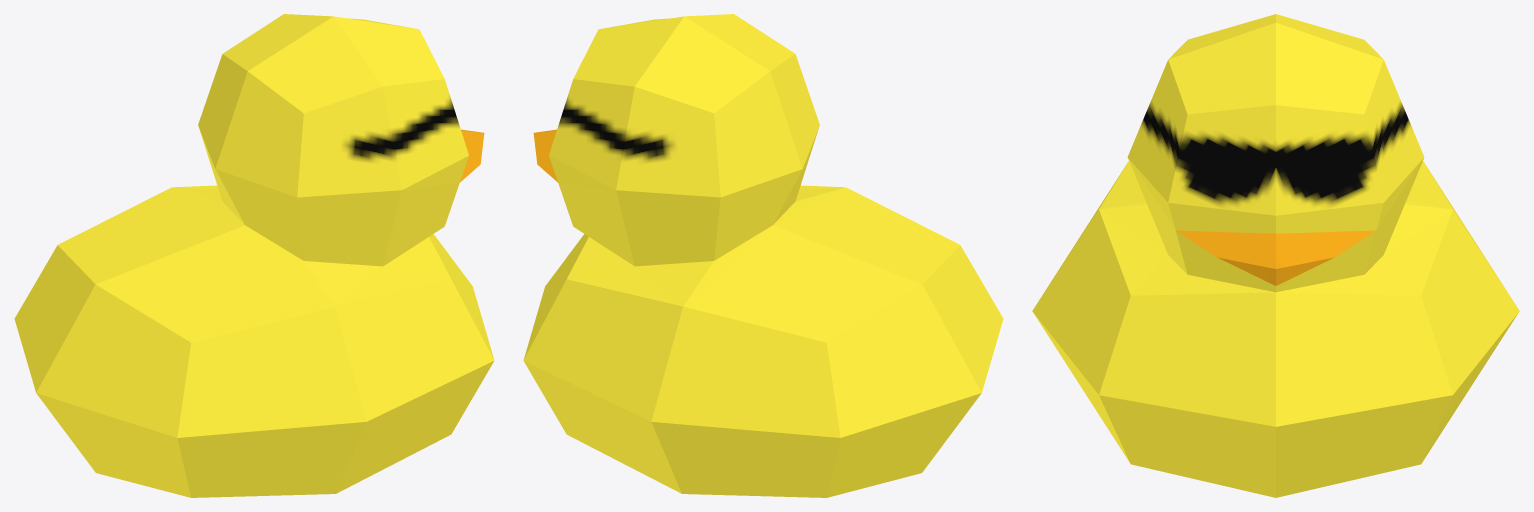
The model's file is Duck-col(1).glb.
3 renders of one model, left to right at view 1: azimuth 30°, elevation 25°; view 2: azimuth 150°, elevation 25°; view 3: azimuth 270°, elevation 25°, orthographic. The views are drawn at different scales.
Visible parts, largest first — view 1: Duck-col; view 2: Duck-col; view 3: Duck-col.
Part boxes in pixels (x1,y1,x2,y2): Duck-col: (14,14,494,497); Duck-col: (523,14,1003,497); Duck-col: (1032,14,1519,497).
Size of the model in its own units: 0.4824 by 0.4466 by 0.4182.
1 material, 1 textured.
